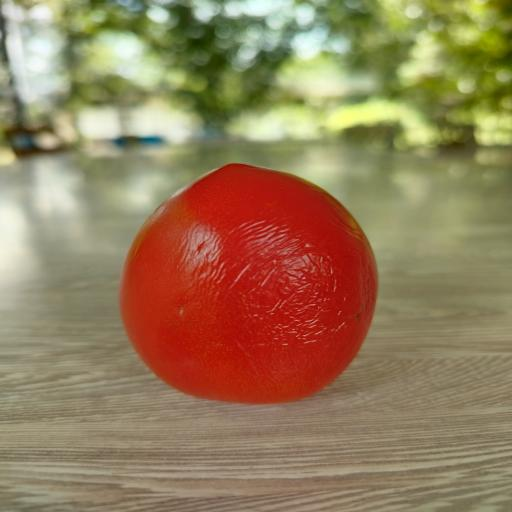spoiled: (120, 164, 377, 403)
